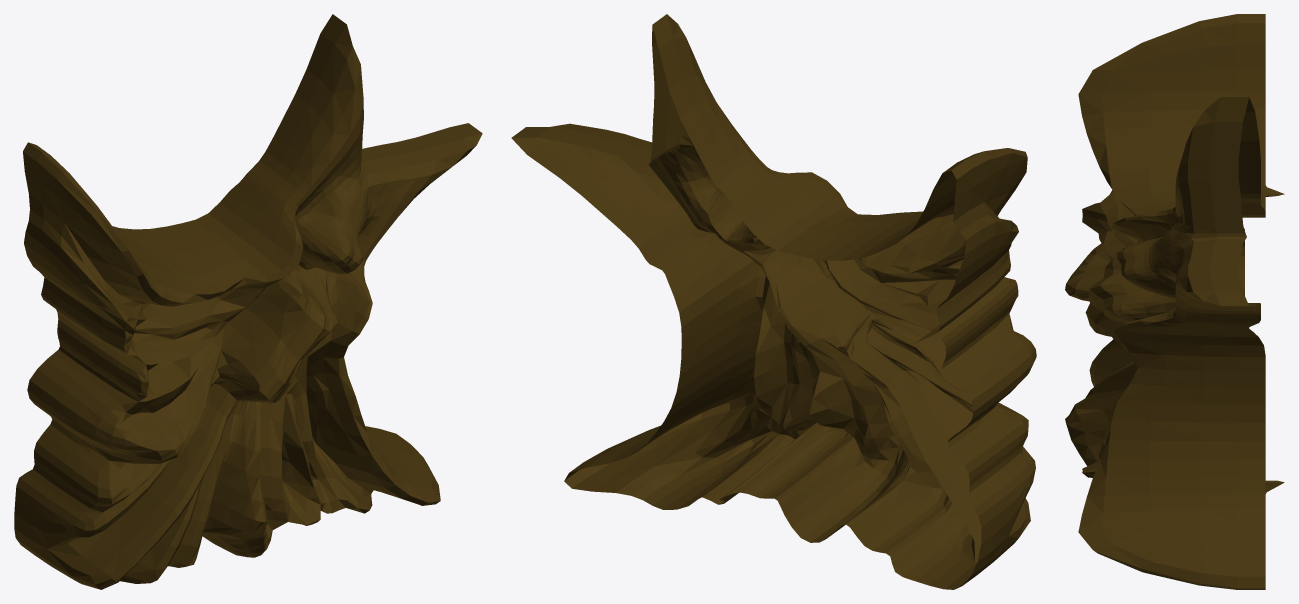
Rendered from angle.obj.
3 views of the same model, side by side, from view 1: azimuth 30°, elevation 25°; view 2: azimuth 150°, elevation 25°; view 3: azimuth 270°, elevation 25° (orthographic). The views are drawn at different scales.
Parts seen in each view (by area): view 1: Box27.Box19.Box24.Box21_Box27.001; view 2: Box27.Box19.Box24.Box21_Box27.001; view 3: Box27.Box19.Box24.Box21_Box27.001.
Boxes of the visible parts, x1=… form: Box27.Box19.Box24.Box21_Box27.001: x1=14, y1=14, x2=482, y2=589; Box27.Box19.Box24.Box21_Box27.001: x1=511, y1=14, x2=1036, y2=589; Box27.Box19.Box24.Box21_Box27.001: x1=1065, y1=14, x2=1284, y2=589.
Bounding box in the file's own units: 2.95 × 2.95 × 1.24.
